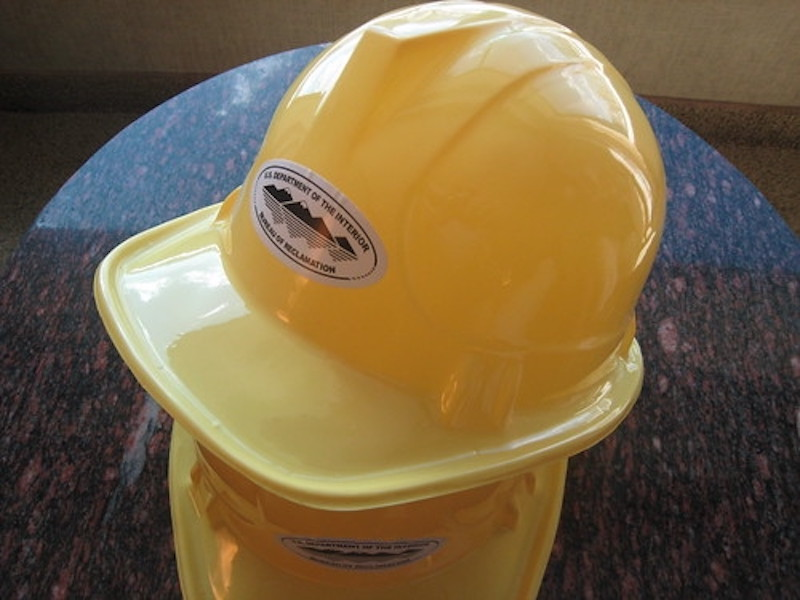safety: (140, 6, 661, 592)
